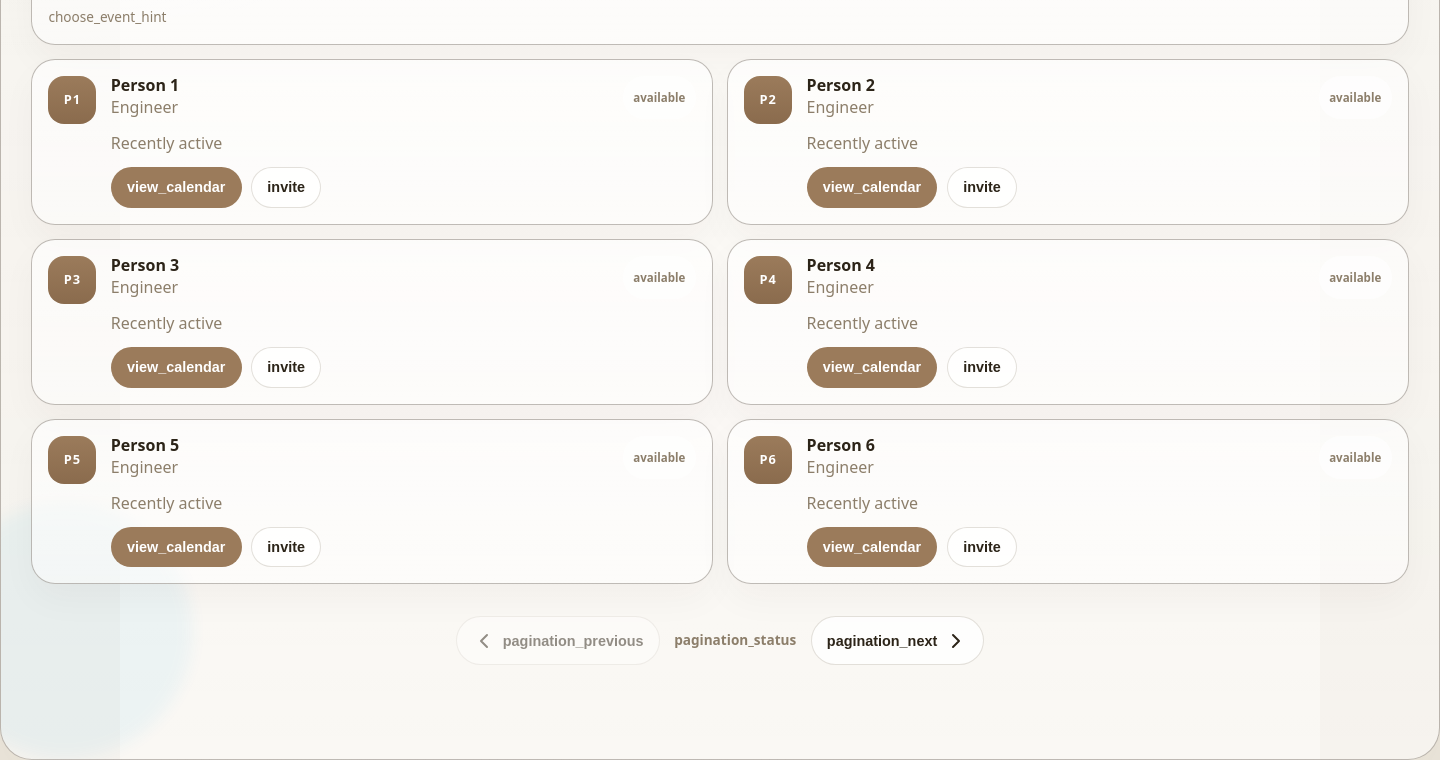
Test: ContactsPage › pagination › paginates and navigates between pages with correct disabled states
(page scrolled)
Expected: the heading "Person 1" is shown, [111, 76, 179, 95]
Expected: the heading "Person 6" is shown, [807, 436, 875, 455]
Click the button "pagination_next" at (897, 641), box [811, 616, 984, 665]
(page scrolled)
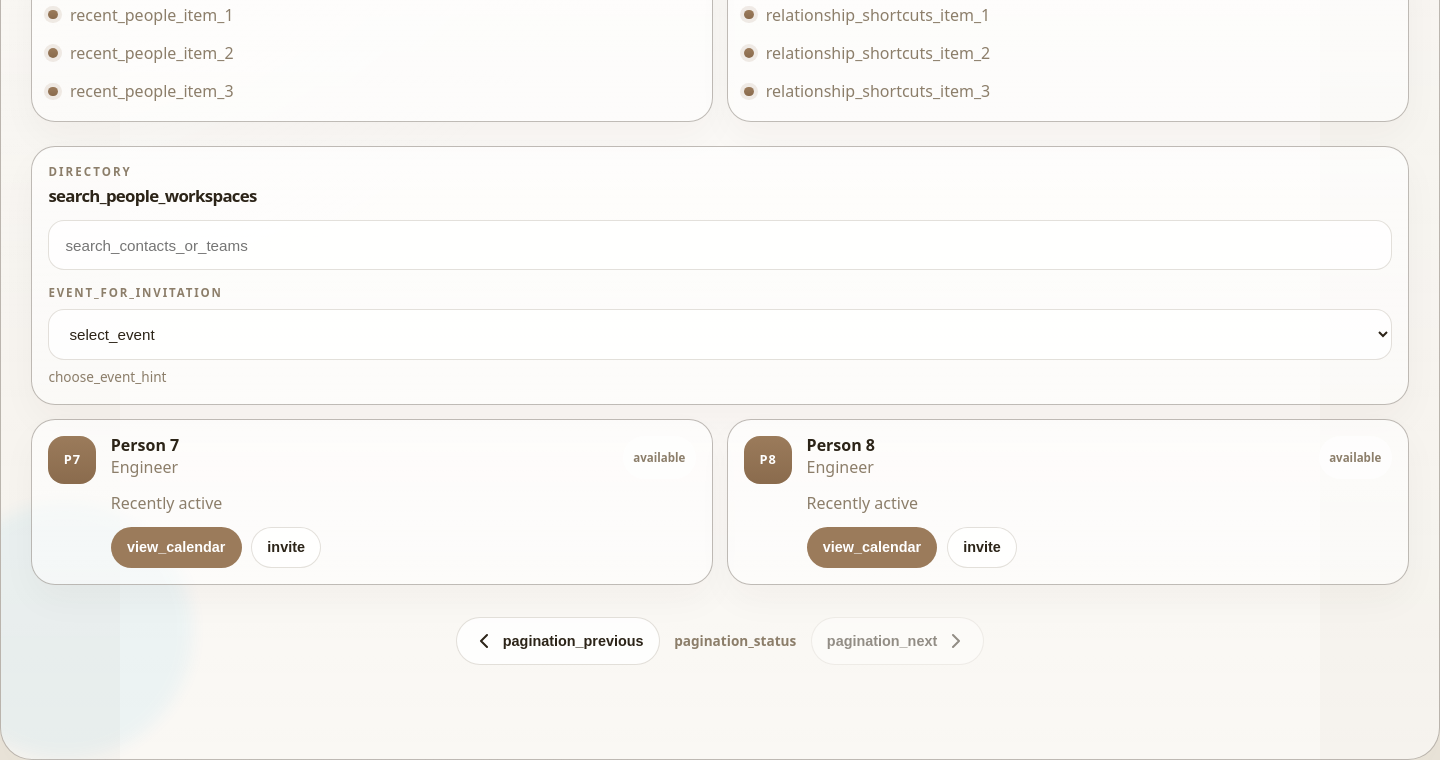
Result: the heading "Person 7" is shown at [111, 436, 179, 455]
Result: the heading "Person 1" is gone
Result: the button "pagination_next" is disabled at [811, 617, 984, 665]
Click the button "pagination_previous" at (558, 641), box [456, 617, 660, 665]
(page scrolled)
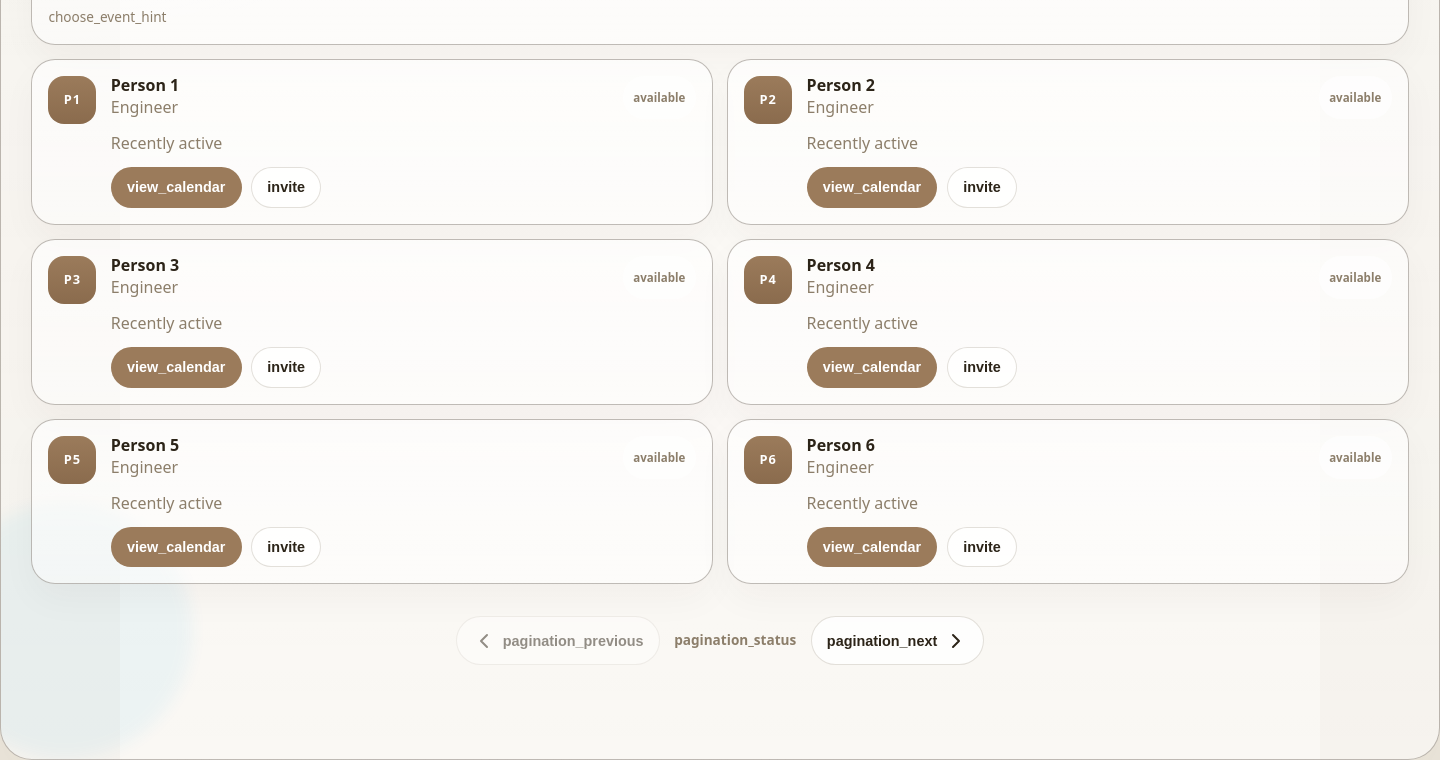
Result: the heading "Person 1" is shown at [111, 76, 179, 95]
